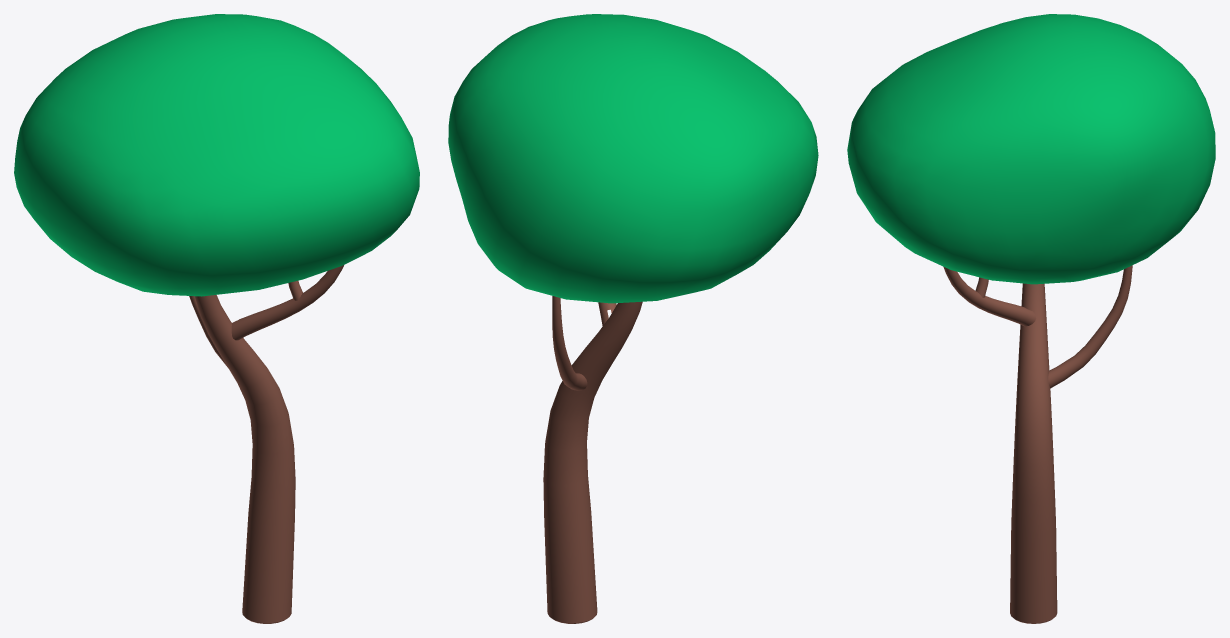
The model's file is Town_14_Tree_1.glb.
The picture shows the model from 3 angles, left to right: view 1: azimuth 30°, elevation 25°; view 2: azimuth 150°, elevation 25°; view 3: azimuth 270°, elevation 25°; orthographic projection. The views are drawn at different scales.
Visible parts, largest first — view 1: Town_14_Tree_1; view 2: Town_14_Tree_1; view 3: Town_14_Tree_1.
Part boxes in pixels (x1,y1,x2,y2): Town_14_Tree_1: [14, 14, 419, 623]; Town_14_Tree_1: [448, 14, 818, 623]; Town_14_Tree_1: [847, 14, 1215, 623].
Size of the model in its own units: 6.11 by 10.76 by 6.45.
1 material, 1 textured.
